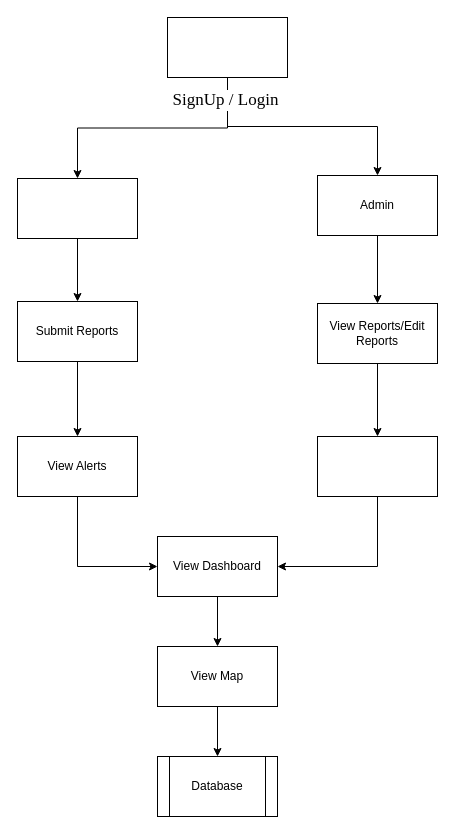
Image size: 455x834. Some labels were removed from this diagram. Each missing label, with the centre of its shape:
"Citizen" goes at (x=227, y=47).
"Send Alerts/ Edit Alerts" goes at (x=377, y=466).
"User" goes at (x=77, y=208).
